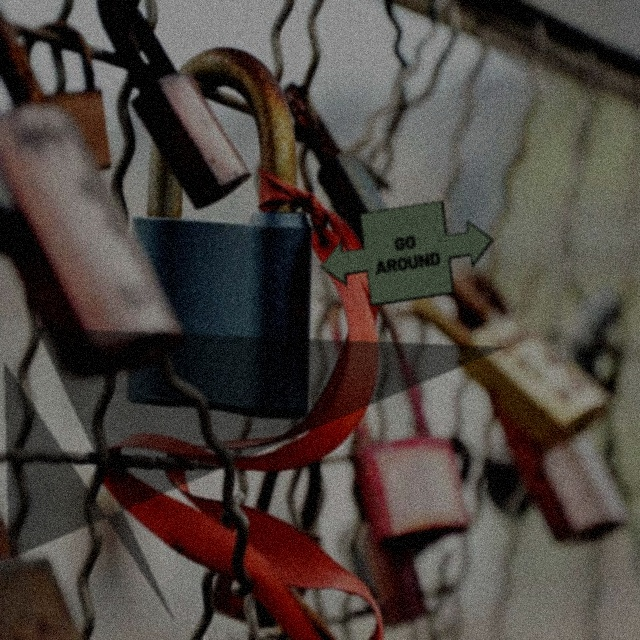GO_AROUND: (320, 200, 493, 306)
